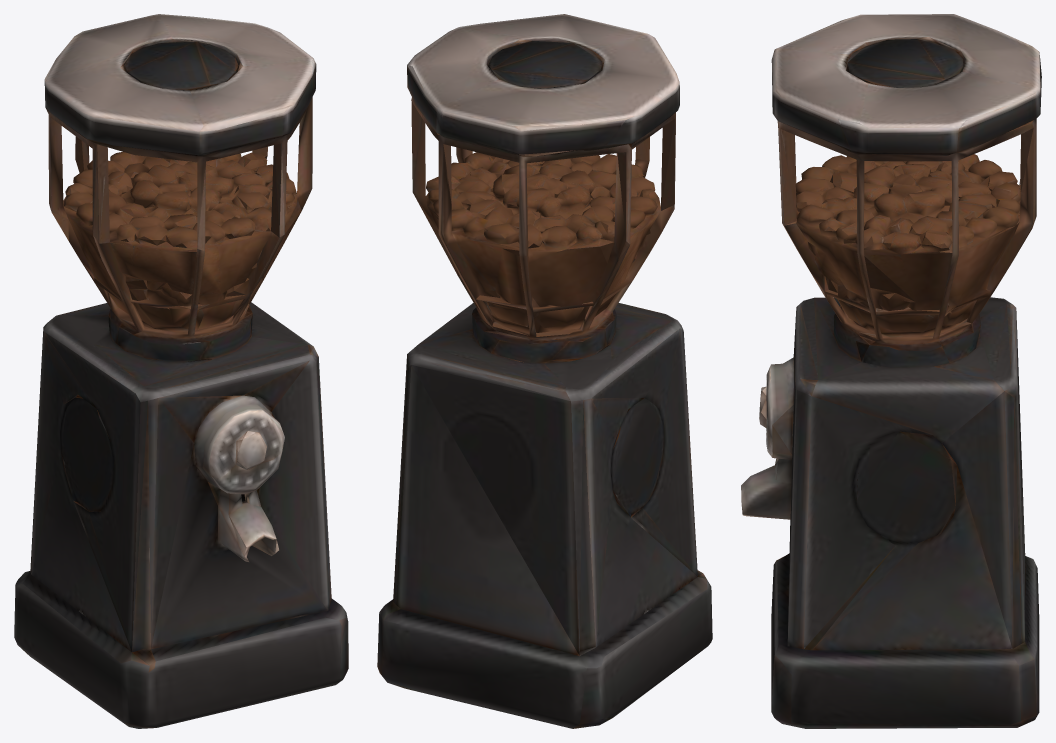
The model's file is grinder.gltf.
3 renders of one model, left to right at view 1: azimuth 30°, elevation 25°; view 2: azimuth 150°, elevation 25°; view 3: azimuth 270°, elevation 25°, orthographic. The views are drawn at different scales.
Visible parts, largest first — view 1: grinder; view 2: grinder; view 3: grinder.
Part boxes in pixels (<box>): grinder: <box>14,14,348,728</box>; grinder: <box>377,14,712,728</box>; grinder: <box>741,14,1041,728</box>.
Size of the model in its own units: 0.341 by 0.85 by 0.3772.
1 material, 1 textured.
